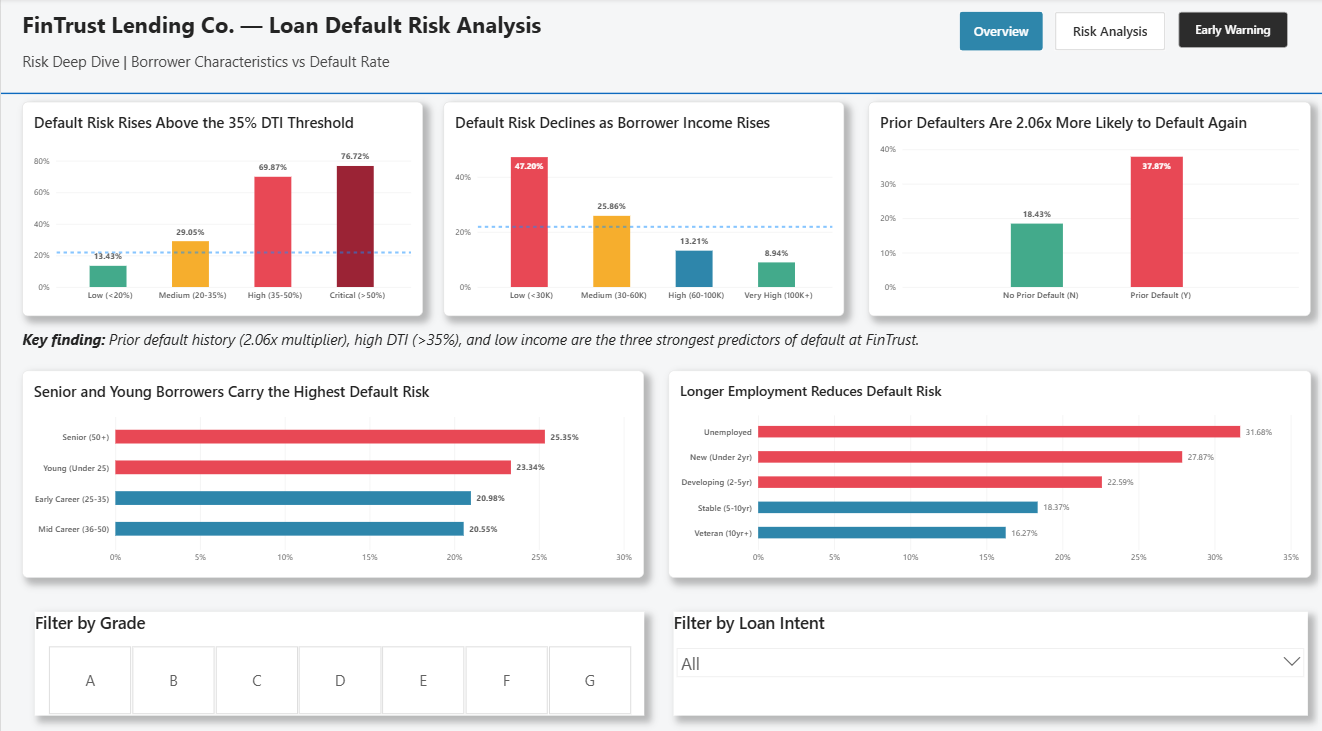

The dashboard page shown, as its layout file describes it:
{"tool":"powerbi","page":{"name":"Risk Deep Dive","canvas":[1920,1080],"ordinal":1},"visuals":[{"type":"textbox","box":[10,0,280,280],"z":0},{"type":"textbox","box":[30,16,1400,128],"z":1000},{"type":"shape","box":[0,132,1920,12],"z":2000},{"type":"clusteredColumnChart","title":"Default Risk Rises Above the 35% DTI Threshold","fields":{"Category":["credit_risk_cleaned.dti_tier"],"Y":["credit_risk_cleaned.Default Rate (%)"]},"box":[30,150,580,310],"z":3000},{"type":"clusteredColumnChart","title":"Default Risk Declines as Borrower Income Rises","fields":{"Category":["credit_risk_cleaned.income_band"],"Y":["credit_risk_cleaned.Default Rate (%)"]},"box":[640,150,580,310],"z":4000},{"type":"clusteredColumnChart","title":"Prior Defaulters Are 2.06x More Likely to Default Again","fields":{"Category":["credit_risk_cleaned.prior_default_display"],"Y":["credit_risk_cleaned.Default Rate (%)"]},"box":[1256,150,640,310],"z":5000},{"type":"clusteredBarChart","title":"Senior and Young Borrowers Carry the Highest Default Risk","fields":{"Category":["credit_risk_cleaned.age_group"],"Y":["credit_risk_cleaned.Default Rate (%)"]},"box":[30,540,900,300],"z":7000},{"type":"clusteredBarChart","title":"Longer Employment Reduces Default Risk","fields":{"Category":["credit_risk_cleaned.emp_stability"],"Y":["credit_risk_cleaned.Default Rate (%)"]},"box":[966,540,930,300],"z":8000},{"type":"slicer","title":"Filter by Grade","fields":{"Values":["credit_risk_cleaned.loan_grade"]},"box":[48,888,882,150],"z":9000},{"type":"slicer","title":"Filter by Loan Intent","fields":{"Values":["credit_risk_cleaned.loan_intent_display"]},"box":[974,888,918,150],"z":10000},{"type":"textbox","box":[30,480,1860,94],"z":11000},{"type":"actionButton","box":[1388,20,120,56],"z":12000},{"type":"actionButton","box":[1526,20,160,56],"z":13000},{"type":"actionButton","box":[1704,20,158,52],"z":14000}]}

Visuals, with their boxes in screenshot pixels (x1, y1, x2, y2), scaled from the page's 1920x1080 canvas onto the 1322x731 screenshot:
textbox: bbox=[7, 0, 200, 190]
textbox: bbox=[21, 11, 985, 97]
shape: bbox=[0, 89, 1321, 97]
"Default Risk Rises Above the 35% DTI Threshold" clusteredColumnChart: bbox=[21, 102, 420, 311]
"Default Risk Declines as Borrower Income Rises" clusteredColumnChart: bbox=[441, 102, 840, 311]
"Prior Defaulters Are 2.06x More Likely to Default Again" clusteredColumnChart: bbox=[865, 102, 1305, 311]
"Senior and Young Borrowers Carry the Highest Default Risk" clusteredBarChart: bbox=[21, 366, 640, 569]
"Longer Employment Reduces Default Risk" clusteredBarChart: bbox=[665, 366, 1305, 569]
"Filter by Grade" slicer: bbox=[33, 601, 640, 703]
"Filter by Loan Intent" slicer: bbox=[671, 601, 1303, 703]
textbox: bbox=[21, 325, 1301, 389]
actionButton: bbox=[956, 14, 1038, 51]
actionButton: bbox=[1051, 14, 1161, 51]
actionButton: bbox=[1173, 14, 1282, 49]
